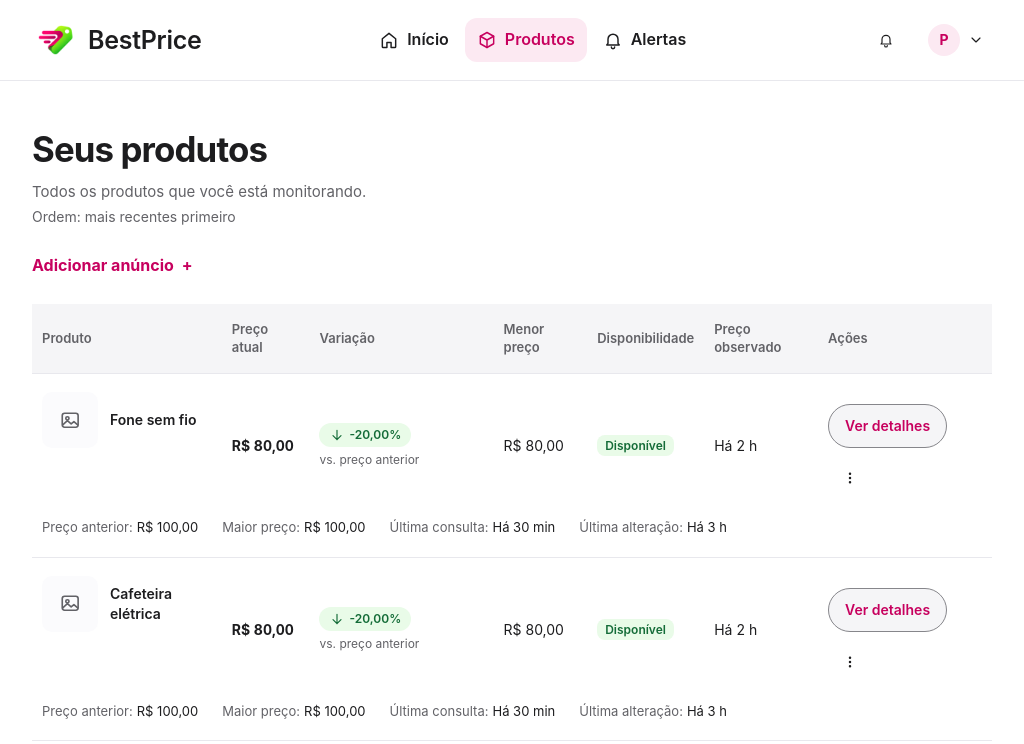
Test case: ações no detalhe › volta a Produtos se Atualizar agora encontra monitoramento interrompido
The image size is (1024, 744).
expect the navigation bar named "Principal" is shown: met, box [367,18,698,62]
What coordinates should you click on to do the following:
click the link named "Ver detalhes de Fone sem fio"
I would click on:
 (888, 426)
Its box is [828,404,947,448].
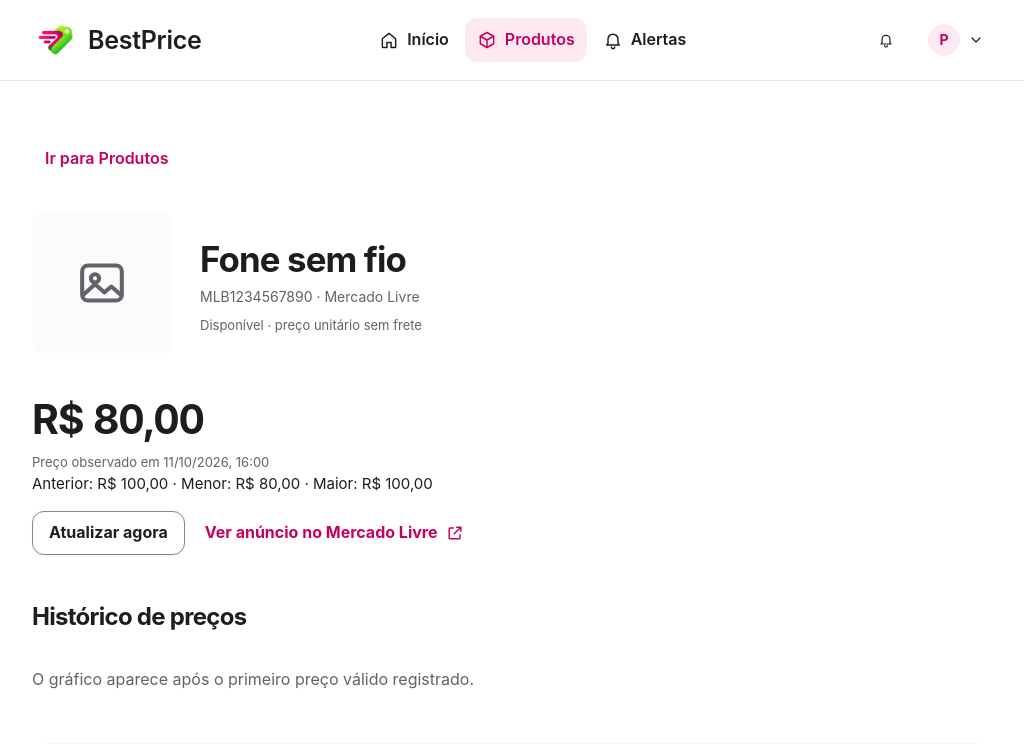
What coordinates should you click on to do the following:
click the button "Atualizar agora"
I would click on:
 (108, 533)
Its box is [32,511,185,555].
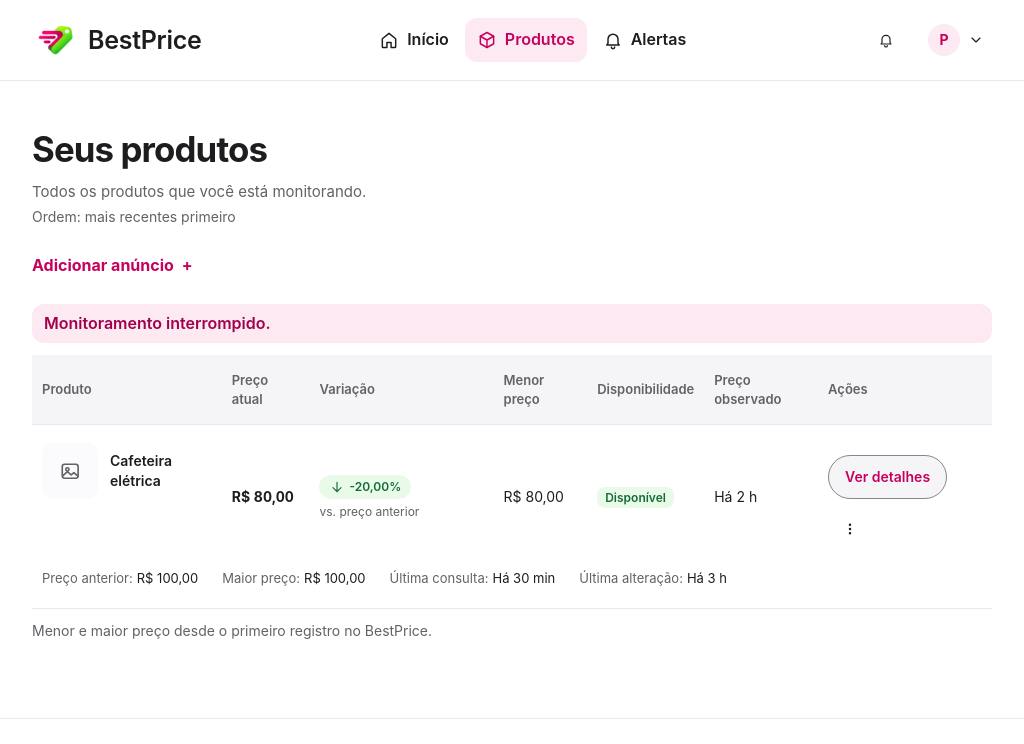
expect the message with test id "products-status" reads "Monitoramento interrompido.": met, box [44,313,271,333]
expect the heading "Fone sem fio" is gone: met
